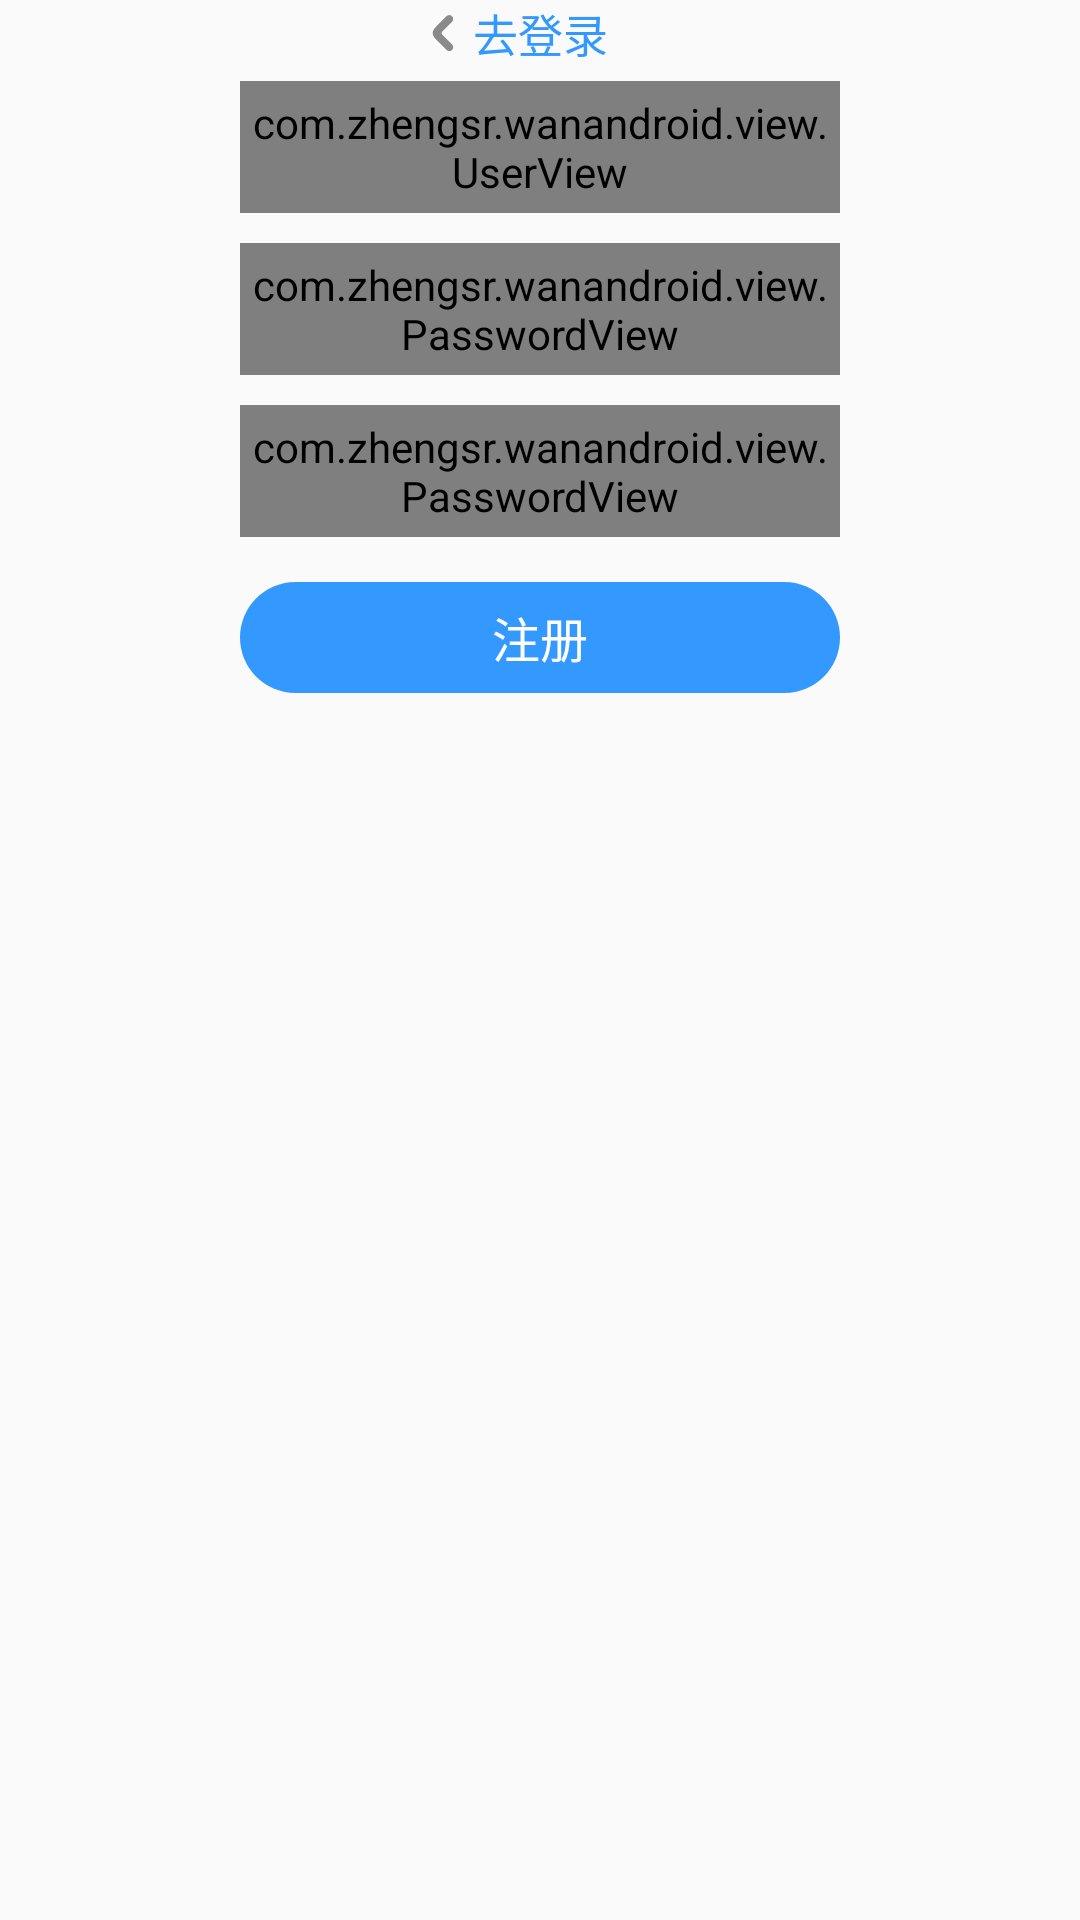

Where to tap for icons on this 1080 x 1920 app screen, as point (x, y):
previes: point (442, 33)
